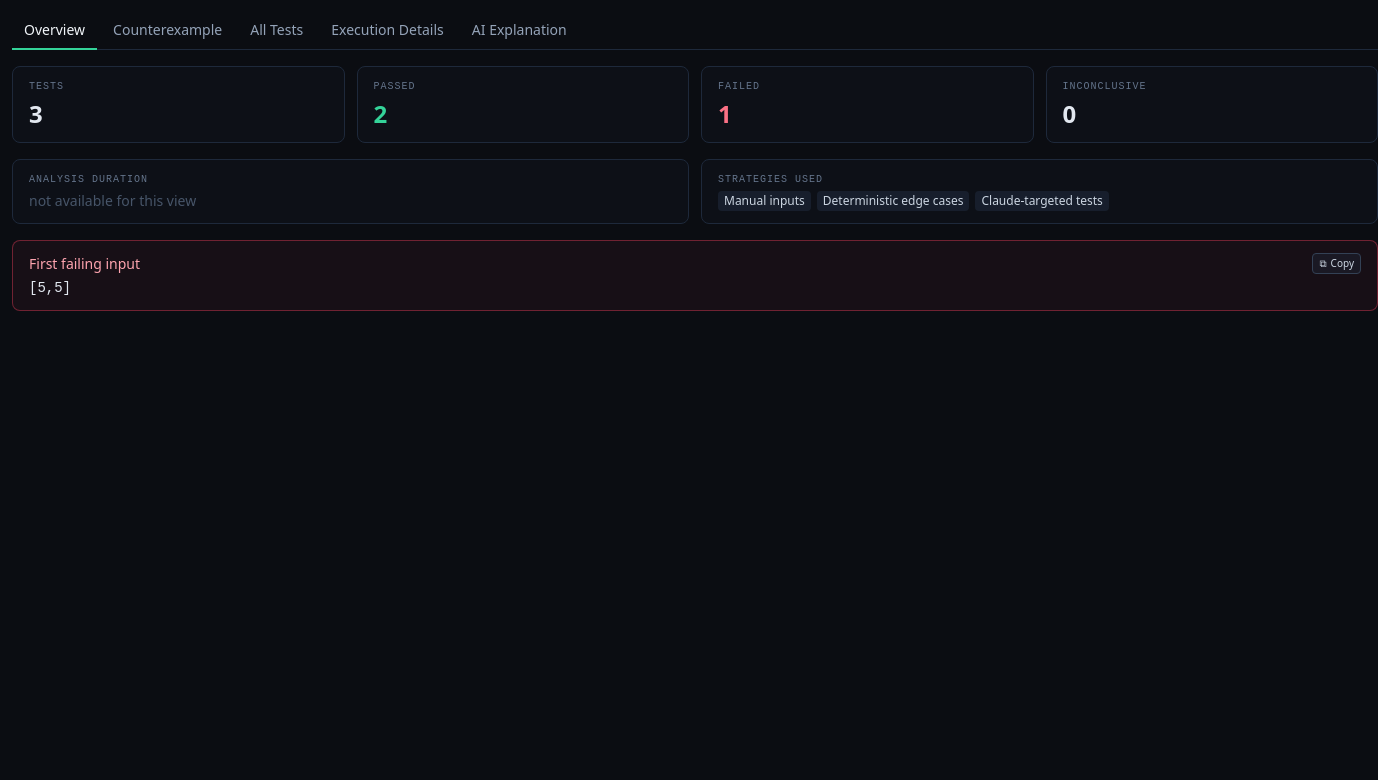
Test case: ResultsView › labels AI commentary distinctly and marks the patch as a proposal
Click the tab "AI Explanation": click(519, 31) [460,12,579,50]
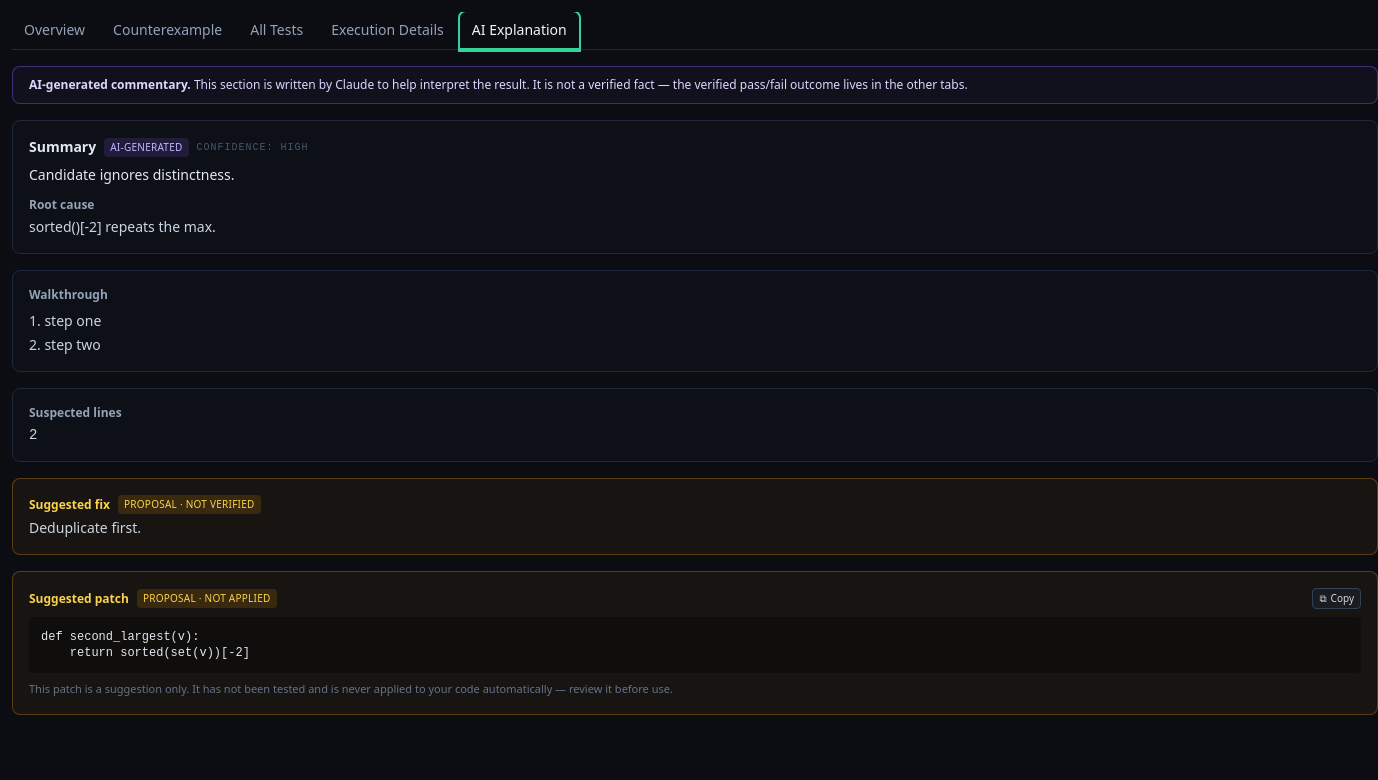
Expected: the text "AI-generated commentary." is shown, [29,76,191,93]
Expected: the text "proposal · not applied" is shown, [137,589,277,608]
Expected: the text "proposal · not verified" is shown, [118,495,261,514]
